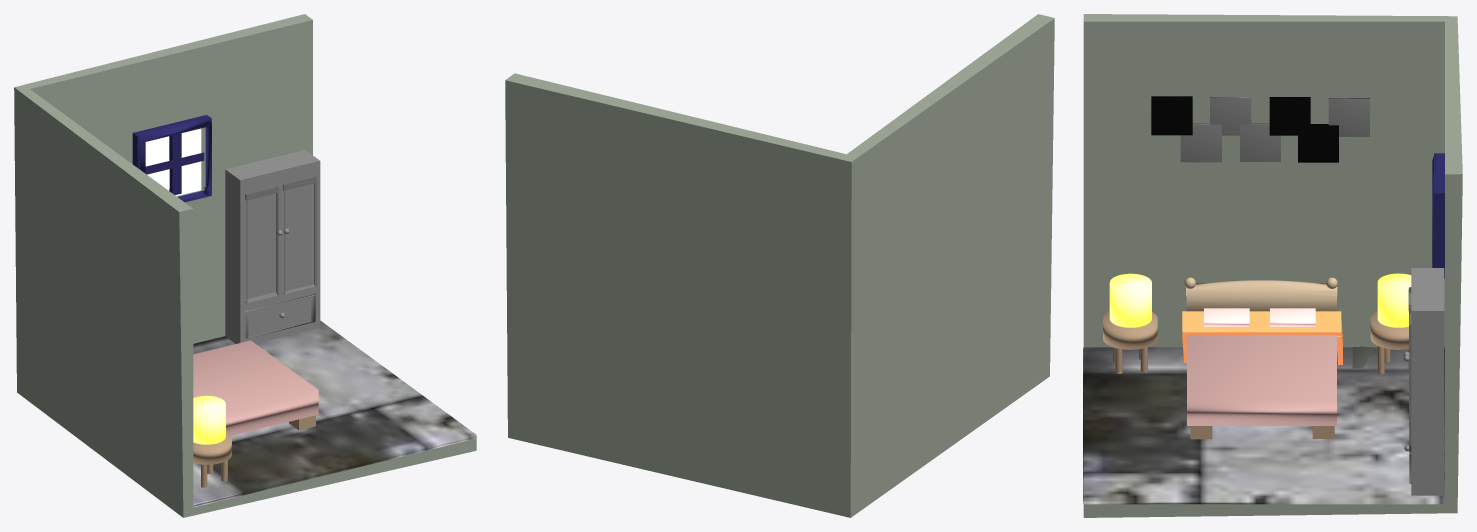
Rendered from myhomeTwo.glb.
3 views of the same model, side by side, from view 1: azimuth 30°, elevation 25°; view 2: azimuth 150°, elevation 25°; view 3: azimuth 270°, elevation 25° (orthographic). The views are drawn at different scales.
Parts seen in each view (by area): view 1: Cube.028, Cube.001, Cube.016, Cube.002, Cube.027, Cube.014, Cylinder.005, Cube.015, Cylinder, Cube.017, Cube.018, Cube.013 (+1 smaller); view 2: Cube.028; view 3: Cube.028, Cube.001, Cube.002, Cube.016, Cube.007, Cube.009, Cylinder.005, Cylinder.011, Cube.020, Cube.025, Cube.021, Cube.026 (+9 smaller).
Part boxes in pixels (x1,y1,x2,y2): Cube.028: [14, 14, 476, 517]; Cube.001: [193, 320, 476, 507]; Cube.016: [225, 150, 320, 343]; Cube.002: [193, 340, 318, 435]; Cube.027: [145, 128, 201, 196]; Cube.014: [137, 117, 211, 200]; Cylinder.005: [193, 395, 225, 444]; Cube.015: [145, 133, 204, 194]; Cylinder: [193, 430, 231, 464]; Cube.017: [245, 186, 279, 303]; Cube.018: [283, 176, 316, 294]; Cube.013: [132, 115, 211, 202]; Cube.028: [505, 14, 1054, 517]; Cube.028: [1083, 14, 1462, 517]; Cube.001: [1083, 346, 1444, 504]; Cube.002: [1187, 335, 1336, 425]; Cube.016: [1411, 268, 1444, 495]; Cube.007: [1186, 283, 1336, 311]; Cube.009: [1182, 311, 1341, 336]; Cylinder.005: [1109, 273, 1151, 327]; Cylinder.011: [1377, 273, 1411, 327]; Cube.020: [1151, 96, 1192, 135]; Cube.025: [1298, 124, 1338, 162]; Cube.021: [1180, 123, 1221, 162]; Cube.026: [1328, 98, 1369, 136].
Bounding box in the file's own units: 7.44 × 7.44 × 7.45.
Materials: 46 (1 with a texture image).
